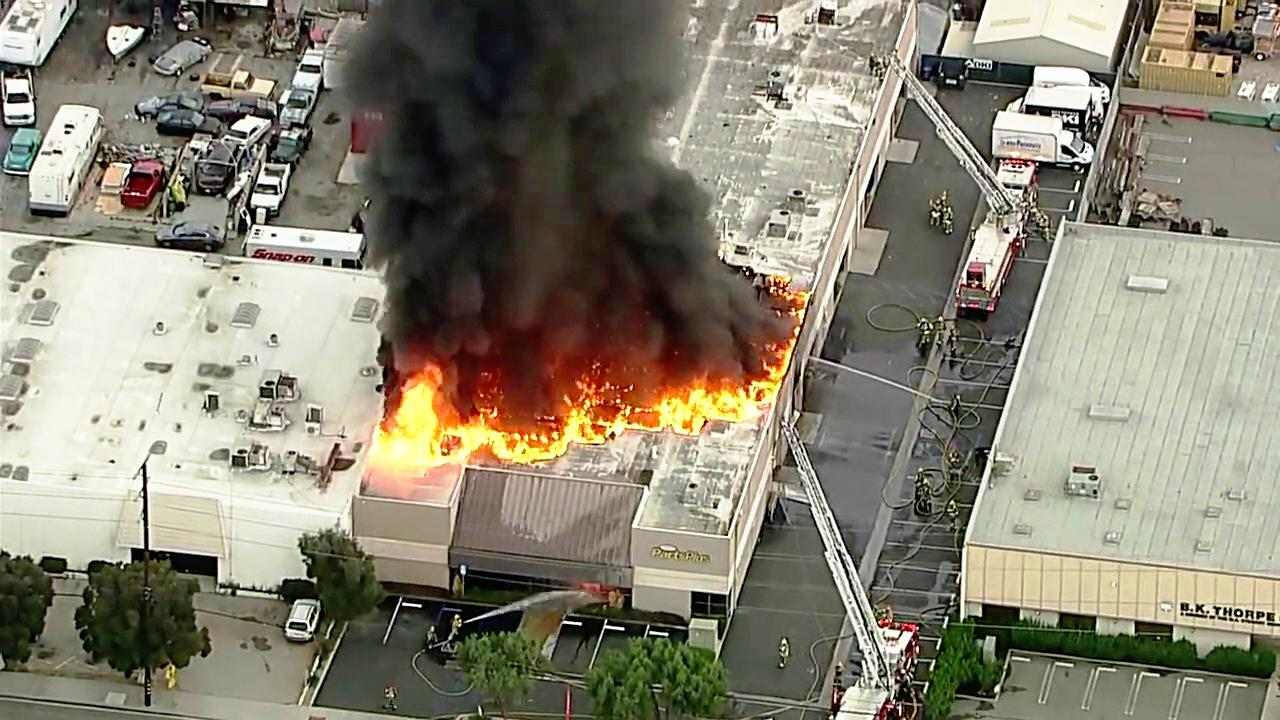smoke: (410, 22, 629, 340)
